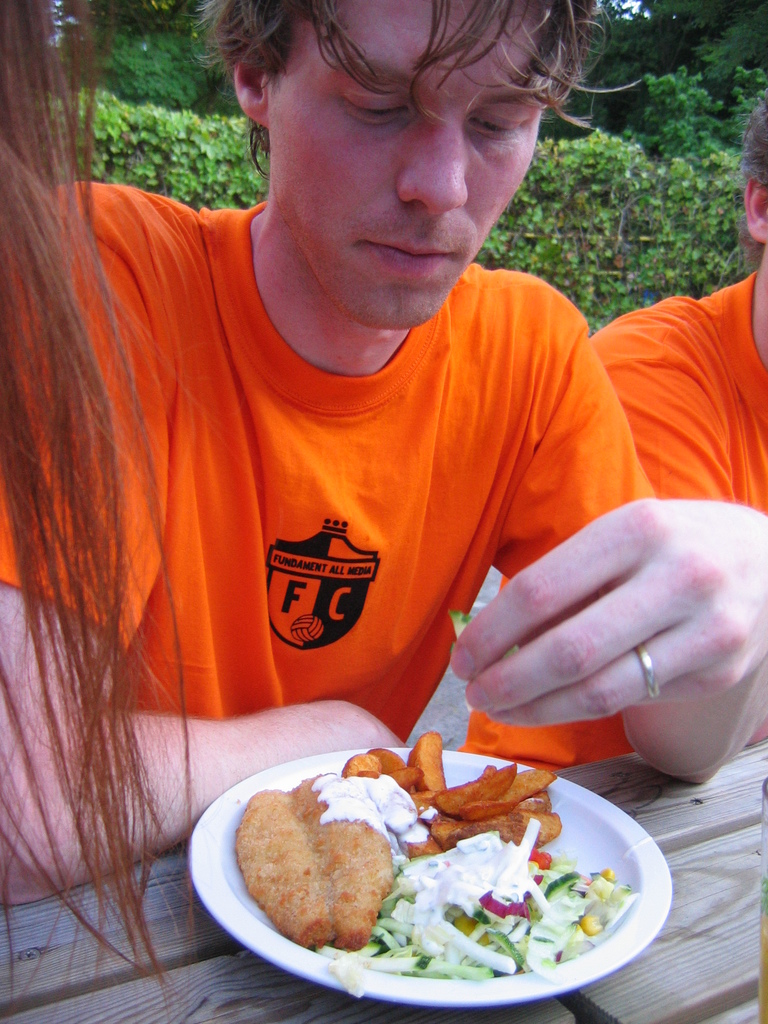French fries: (332, 723, 562, 871)
